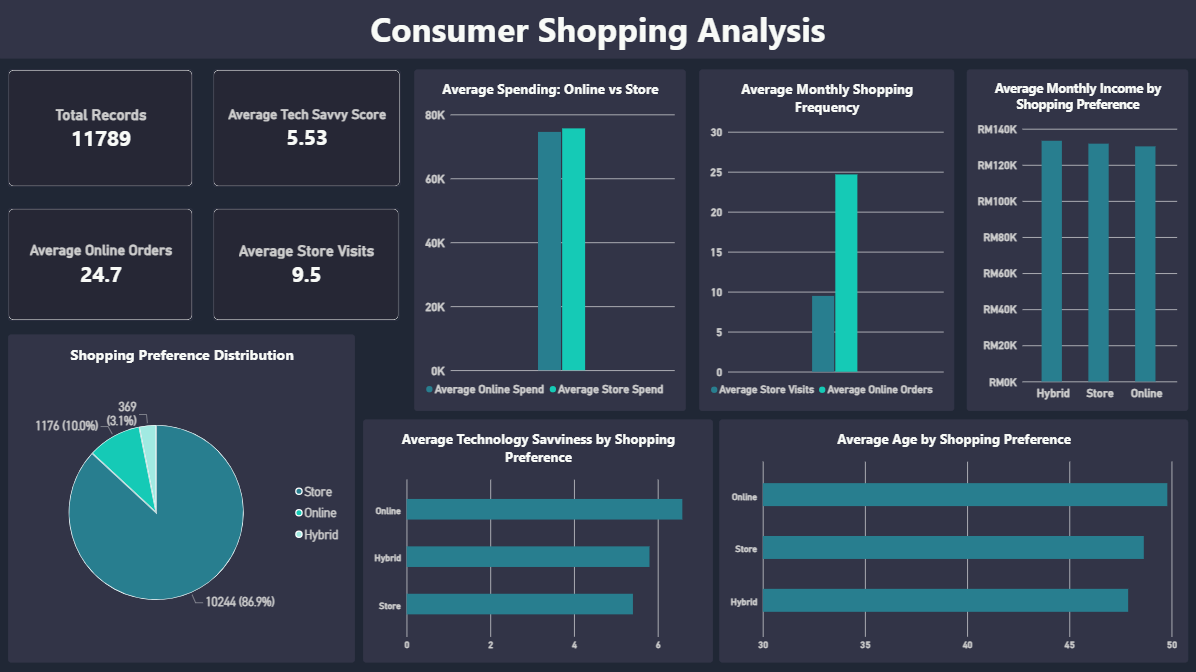

Layout of this report page (visuals, bound fields, positions):
{"tool":"powerbi","page":{"name":"Main Page","canvas":[1920,1080],"ordinal":0},"visuals":[{"type":"pieChart","title":"Shopping Preference Distribution","fields":{"Category":["Shopping Analysis.Shopping Preference"],"Y":["Shopping Analysis.Total Records"]},"box":[16.3,539.3,555.6,524.8],"z":0},{"type":"clusteredColumnChart","title":"Average Monthly Shopping Frequency","fields":{"Y":["Shopping Analysis.Average Store Visits","Shopping Analysis.Average Online Orders"]},"box":[1122,116,408,546],"z":1000},{"type":"clusteredBarChart","title":"Average Technology Savviness by Shopping Preference","fields":{"Category":["Shopping Analysis.Shopping Preference"],"Y":["Avg(Shopping Analysis.Tech Savvy Score)"]},"box":[584.4,675.6,560,388.9],"z":2000},{"type":"clusteredColumnChart","title":"Average Spending: Online vs Store","fields":{"Y":["Shopping Analysis.Average Online Spend","Shopping Analysis.Average Store Spend"]},"box":[666,116,434,546],"z":3000},{"type":"clusteredBarChart","title":"Average Age by Shopping Preference","fields":{"Category":["Shopping Analysis.Shopping Preference"],"Y":["Avg(Shopping Analysis.Age)"]},"box":[1154.4,675.6,750,388.9],"z":3001},{"type":"clusteredColumnChart","title":"Average Monthly Income by Shopping Preference","fields":{"Category":["Shopping Analysis.Shopping Preference"],"Y":["Avg(Shopping Analysis.Monthly Income)"]},"box":[1550,116,354,546],"z":3002},{"type":"textbox","title":"Consumer Shopping Analysis","box":[0,0,1920,98],"z":3003},{"type":"cardVisual","title":"Total Records","fields":{"Data":["Shopping Analysis.Total Records"]},"box":[16,116,296,188],"z":3004},{"type":"cardVisual","title":"Total Records","fields":{"Data":["Avg(Shopping Analysis.Tech Savvy Score)"]},"box":[344,116,300,188],"z":3005},{"type":"cardVisual","title":"Total Records","fields":{"Data":["Shopping Analysis.Average Online Orders"]},"box":[16,338,296,180],"z":3006},{"type":"cardVisual","title":"Total Records","fields":{"Data":["Shopping Analysis.Average Store Visits"]},"box":[344,338,298,180],"z":3007}]}

Visuals, with their boxes in screenshot pixels (x1, y1, x2, y2), scaled from the page's 1920x1080 canvas onto the 1196x672 screenshot:
"Shopping Preference Distribution" pieChart: bbox=(10, 336, 356, 662)
"Average Monthly Shopping Frequency" clusteredColumnChart: bbox=(699, 72, 953, 412)
"Average Technology Savviness by Shopping Preference" clusteredBarChart: bbox=(364, 420, 713, 662)
"Average Spending: Online vs Store" clusteredColumnChart: bbox=(415, 72, 685, 412)
"Average Age by Shopping Preference" clusteredBarChart: bbox=(719, 420, 1186, 662)
"Average Monthly Income by Shopping Preference" clusteredColumnChart: bbox=(966, 72, 1186, 412)
"Consumer Shopping Analysis" textbox: bbox=(0, 0, 1195, 61)
"Total Records" cardVisual: bbox=(10, 72, 194, 189)
"Total Records" cardVisual: bbox=(214, 72, 401, 189)
"Total Records" cardVisual: bbox=(10, 210, 194, 322)
"Total Records" cardVisual: bbox=(214, 210, 400, 322)
